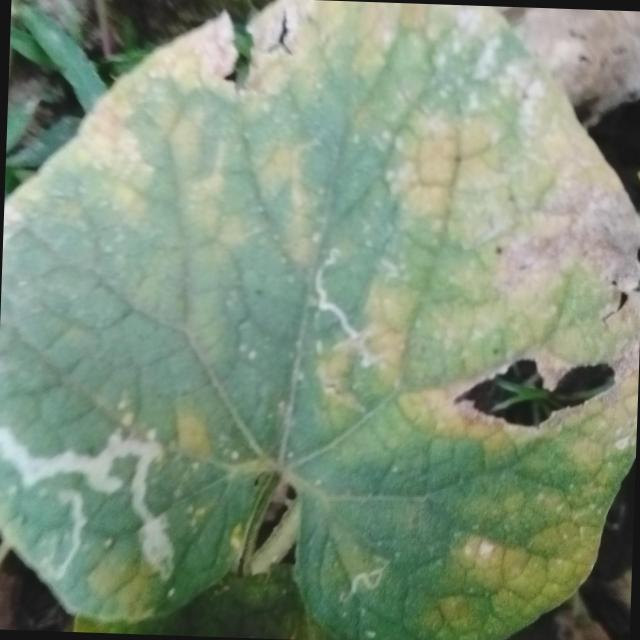cucumber_anthracnose: (24, 0, 640, 591)
